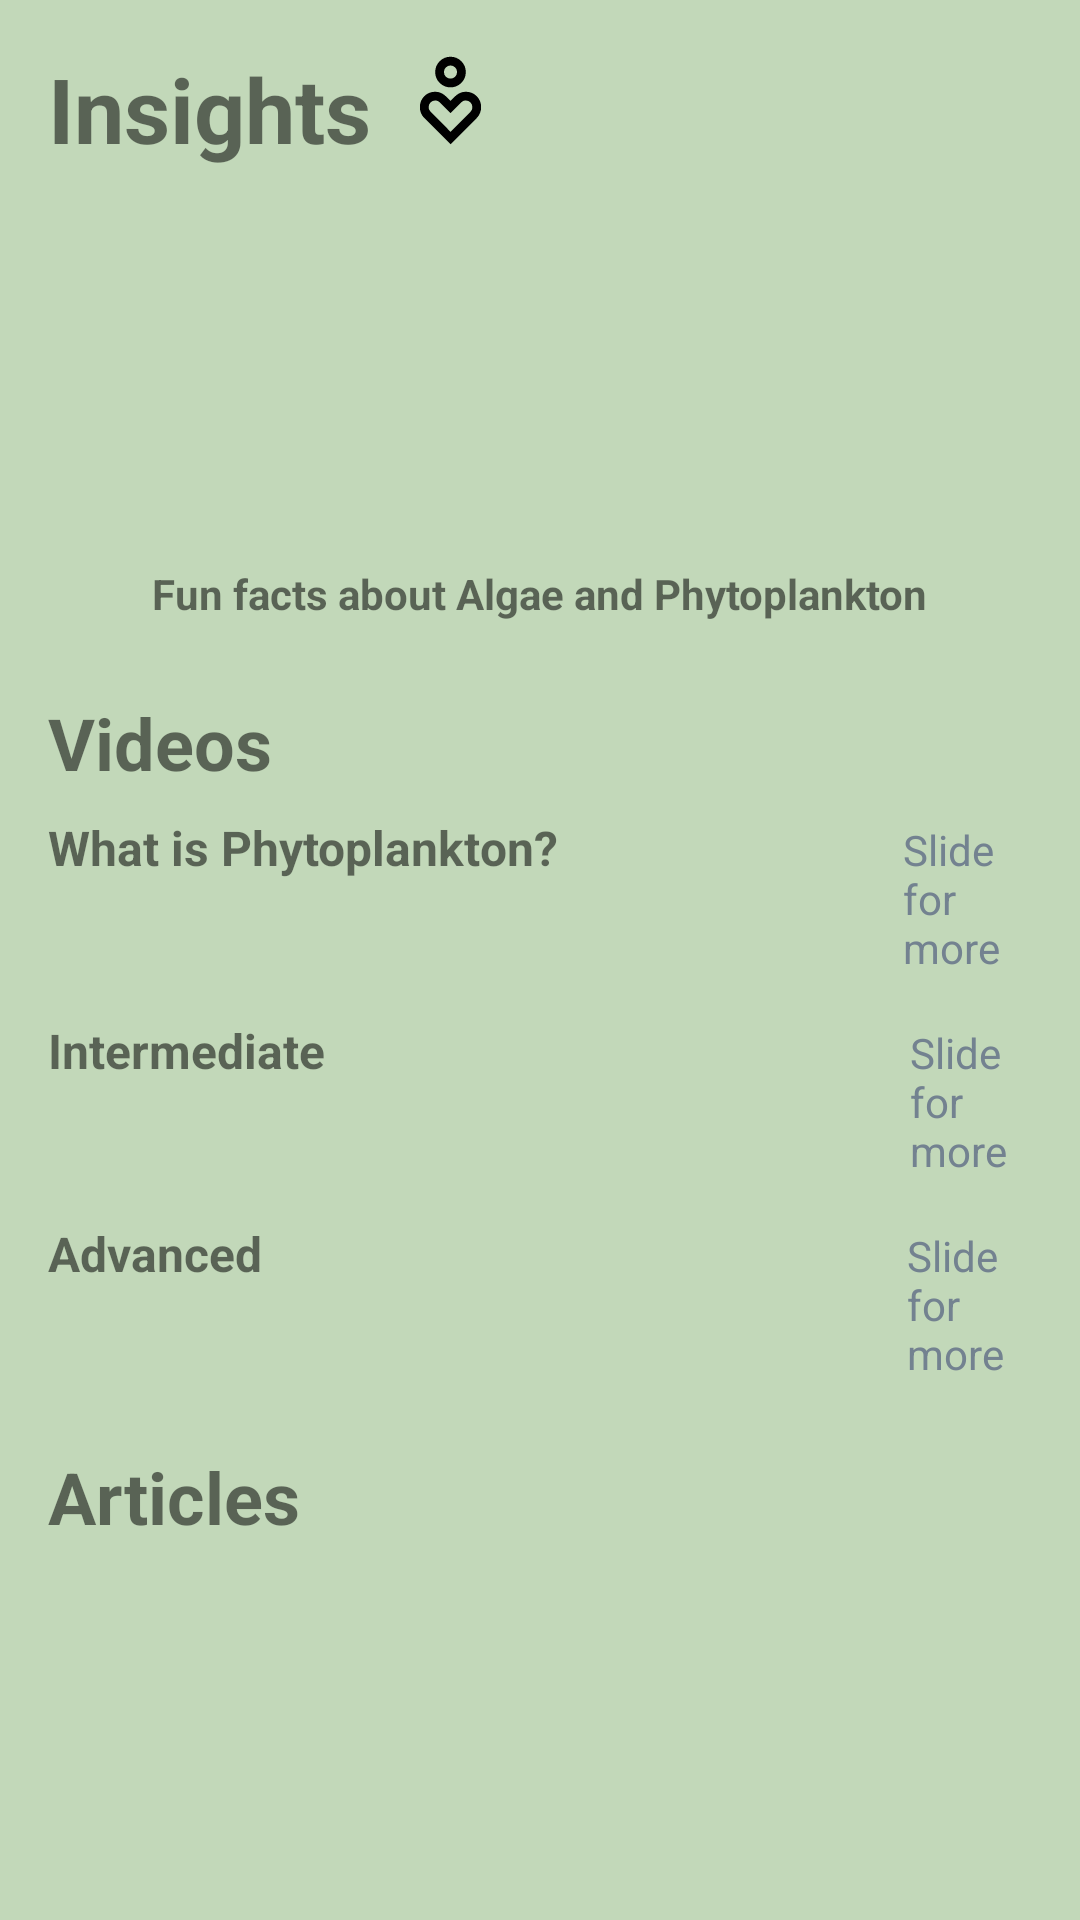

Point at icon controls on the screen. Image size 1080w x 1920h, points as (x,y).
community: (450,100)
